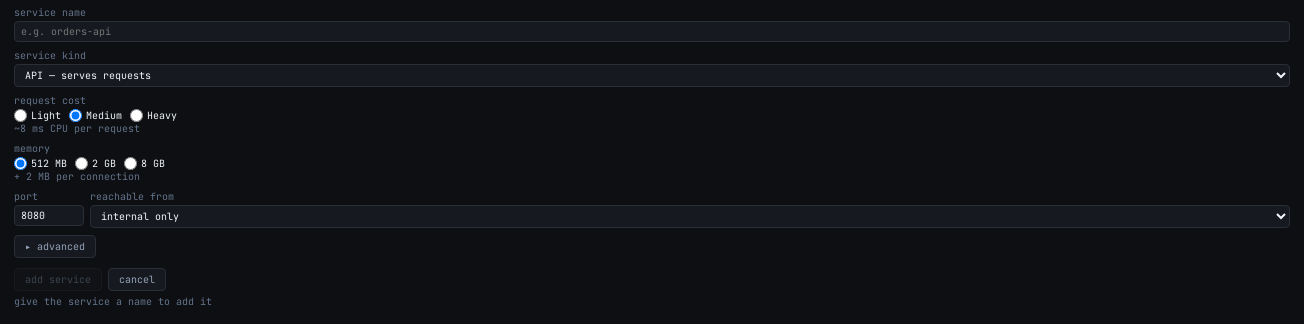
Test: AddServiceForm › hides the port controls for a worker, which binds nothing
Expected: the number field labelled "port" is shown, [14,205,84,226]
Select "Worker — pulls work from a queue" in the dropdown labelled "service kind" at (652, 76), box [14,64,1290,87]
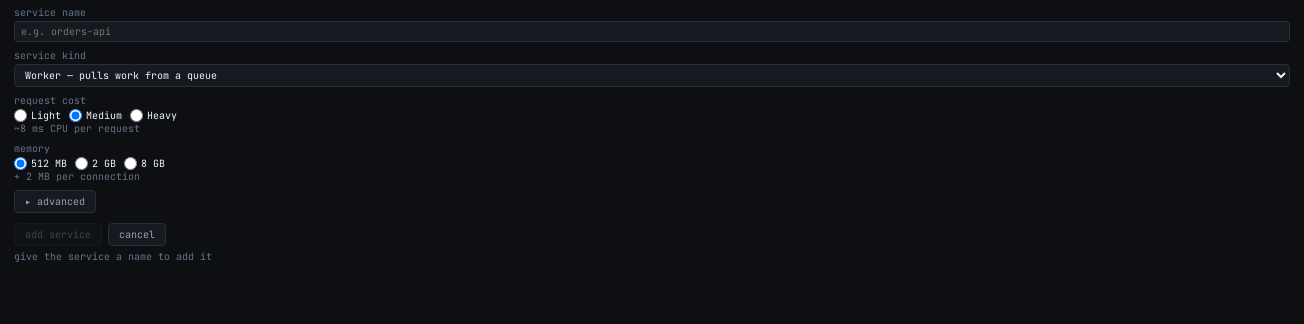
Expected: the label labelled "port" is gone
